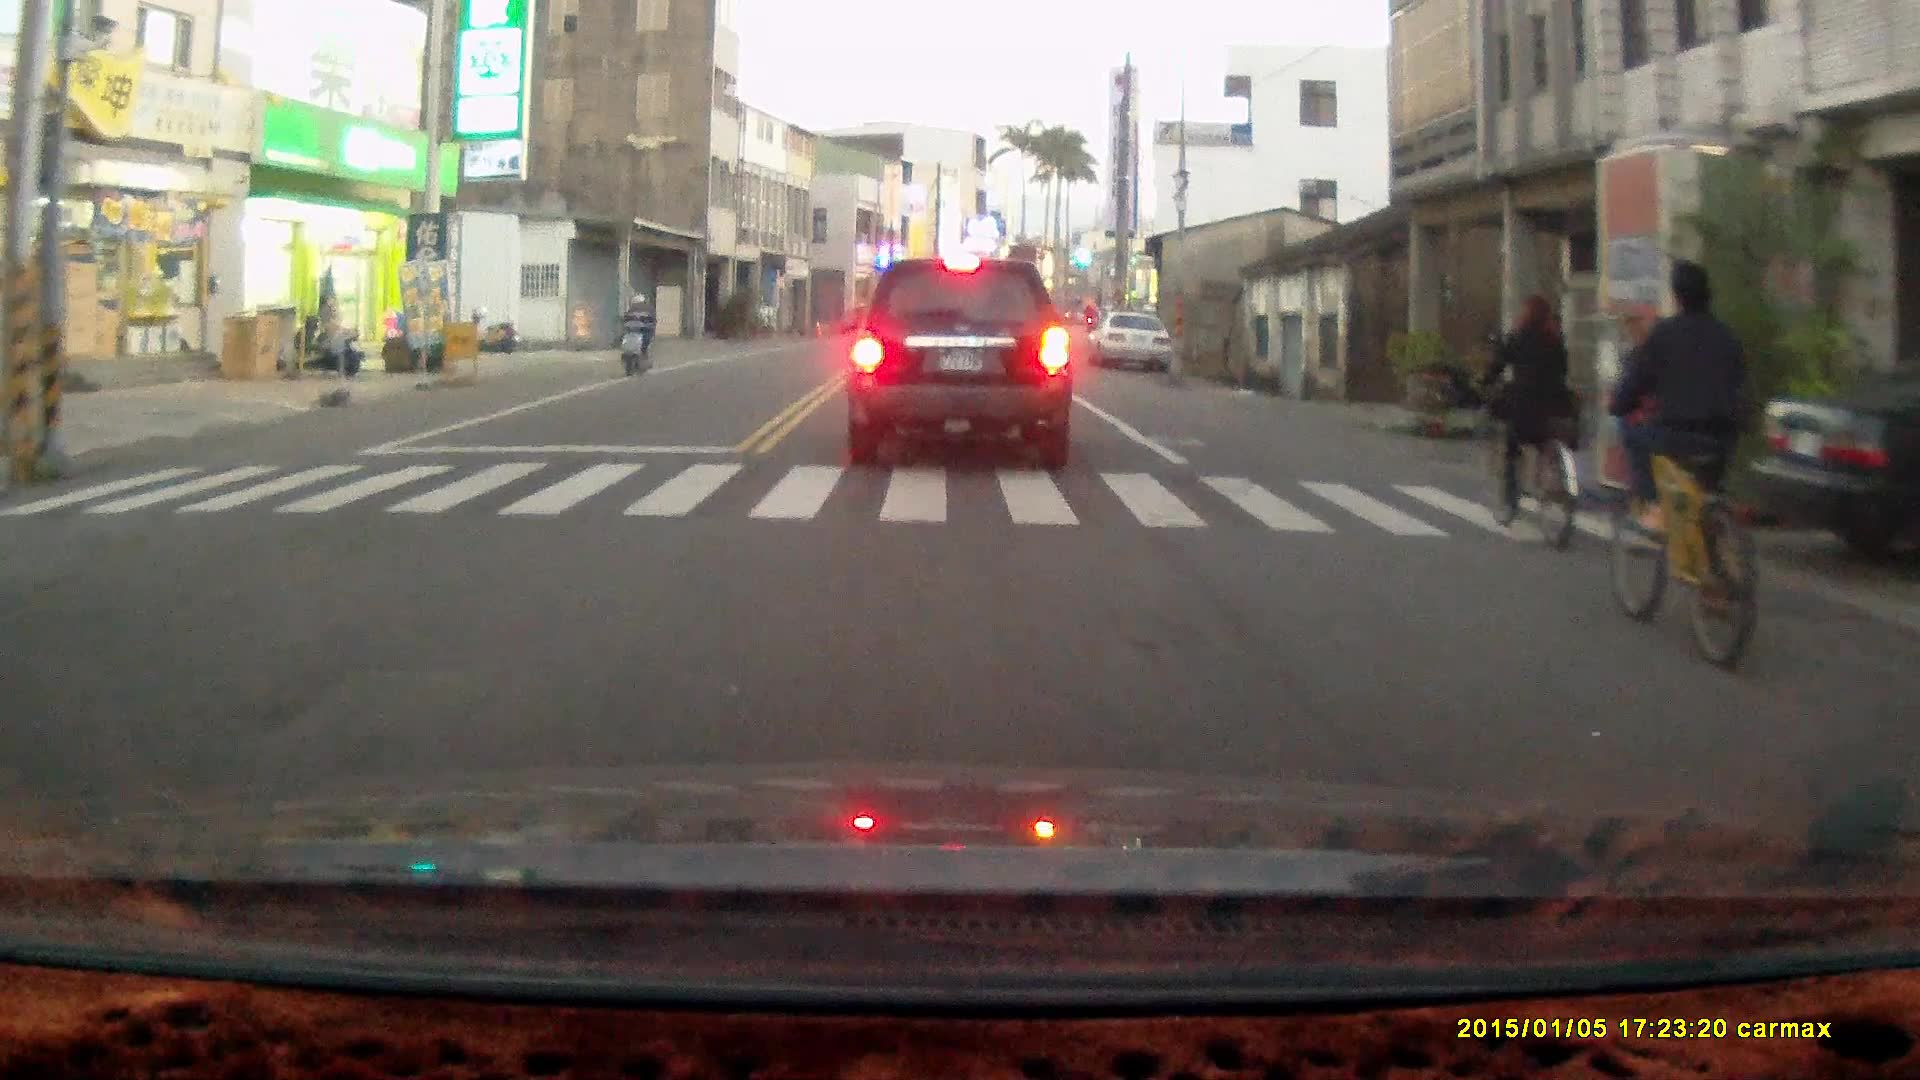rider: (1600, 252, 1773, 670), (1467, 287, 1587, 551), (613, 288, 656, 377)
vehicle: (843, 246, 1086, 466), (1746, 379, 1920, 562), (1095, 313, 1176, 372)
